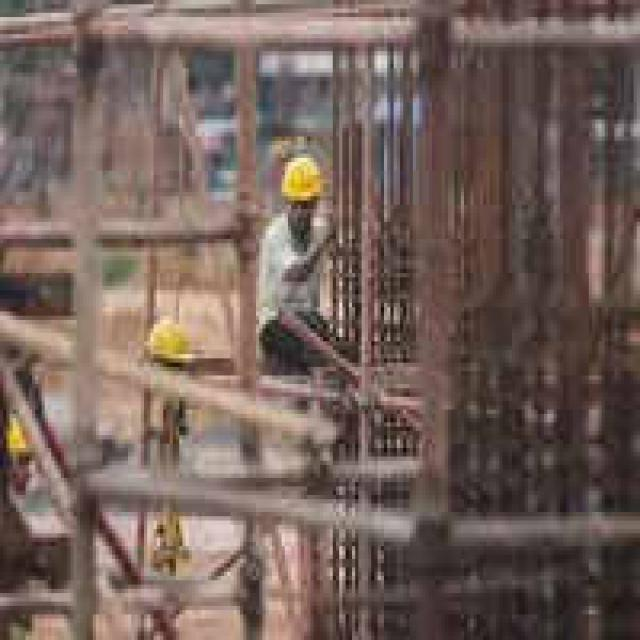Reflective-Jacket: (244, 218, 342, 358)
Safety-Helmet: (134, 307, 202, 380), (272, 149, 336, 218)
